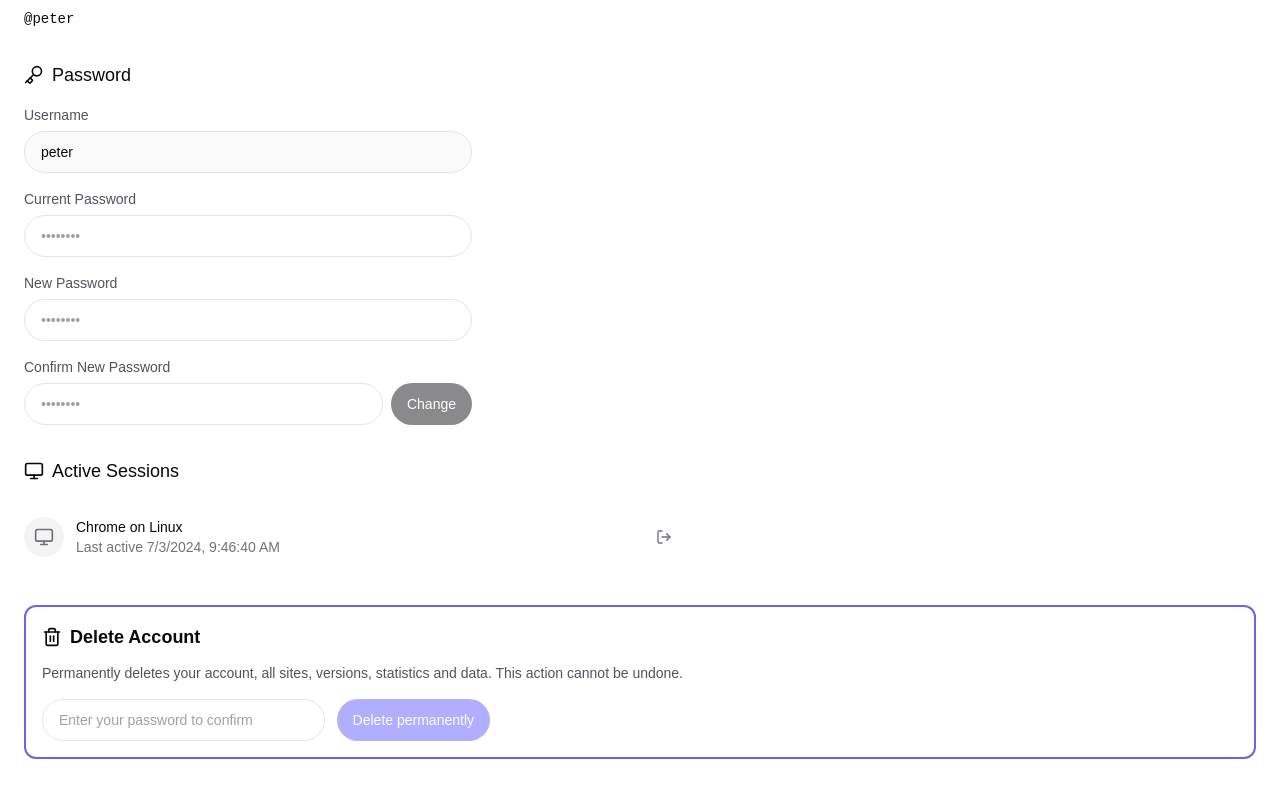
Scenario: SettingsSection › lists active sessions with a revoke action
(page scrolled)
Click the button named "Revoke session" at (664, 537), box [648,521,680,553]
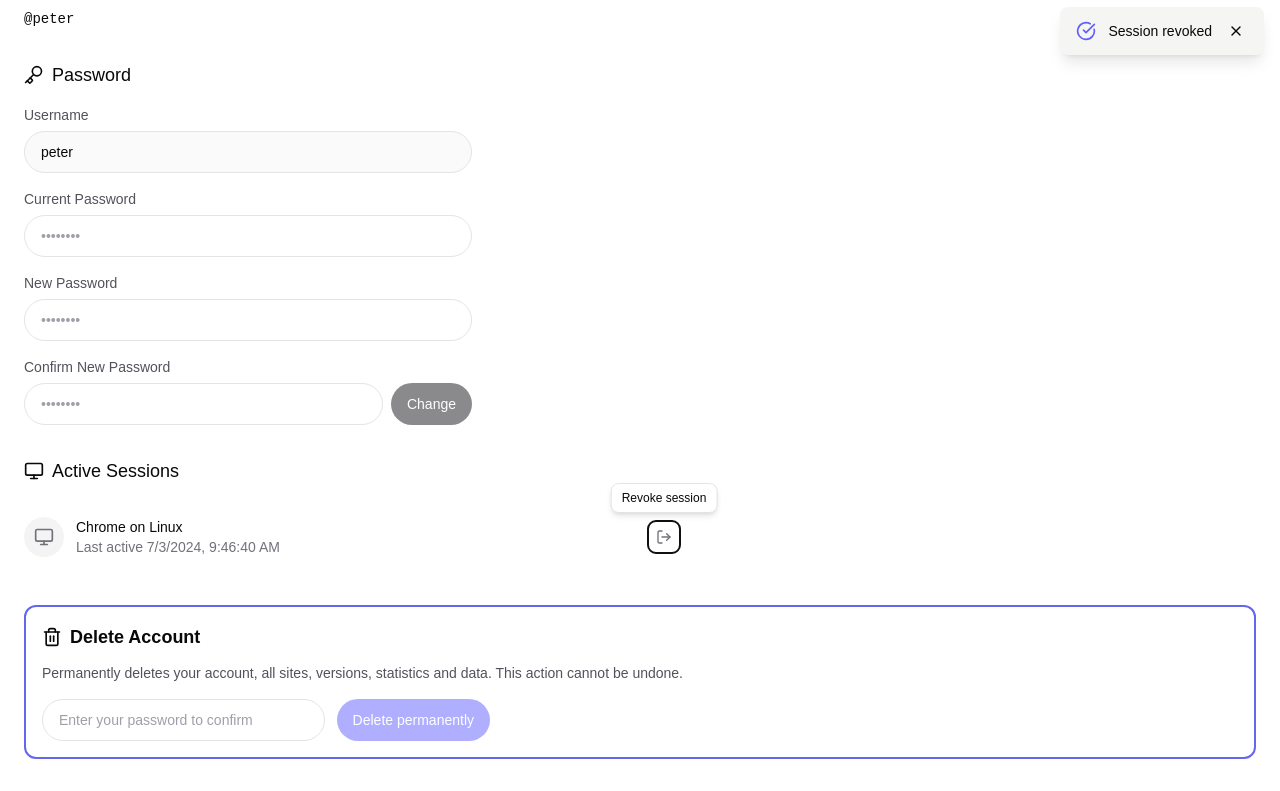
Check: the text "Session revoked" is shown, box [1108,21,1212,41]
